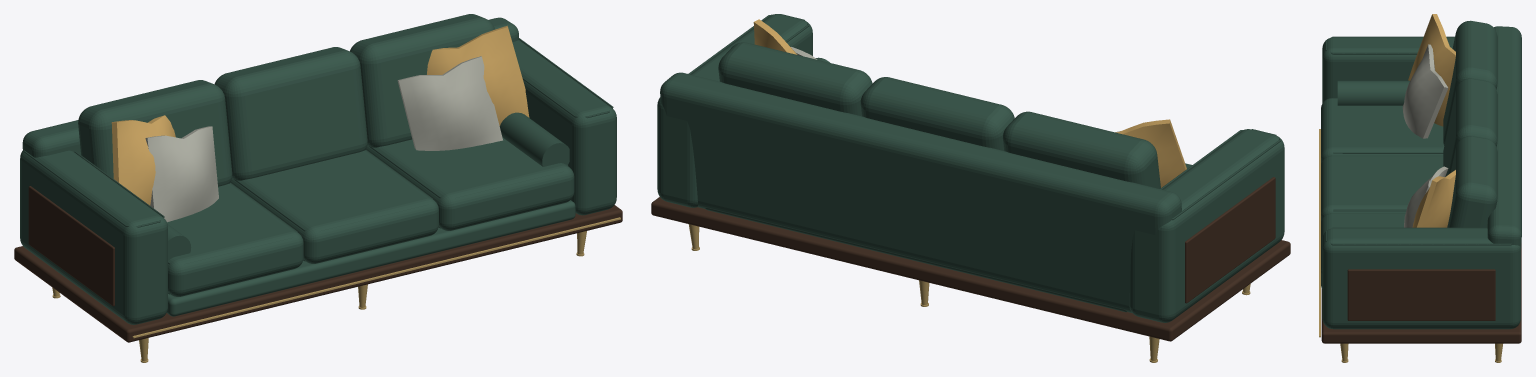
Rendered from milano-moss-3.glb.
The picture shows the model from 3 angles, left to right: view 1: azimuth 30°, elevation 25°; view 2: azimuth 150°, elevation 25°; view 3: azimuth 270°, elevation 25°; orthographic projection. The views are drawn at different scales.
Bounding box in the file's own units: 2.2 × 0.8344 × 0.8932.
